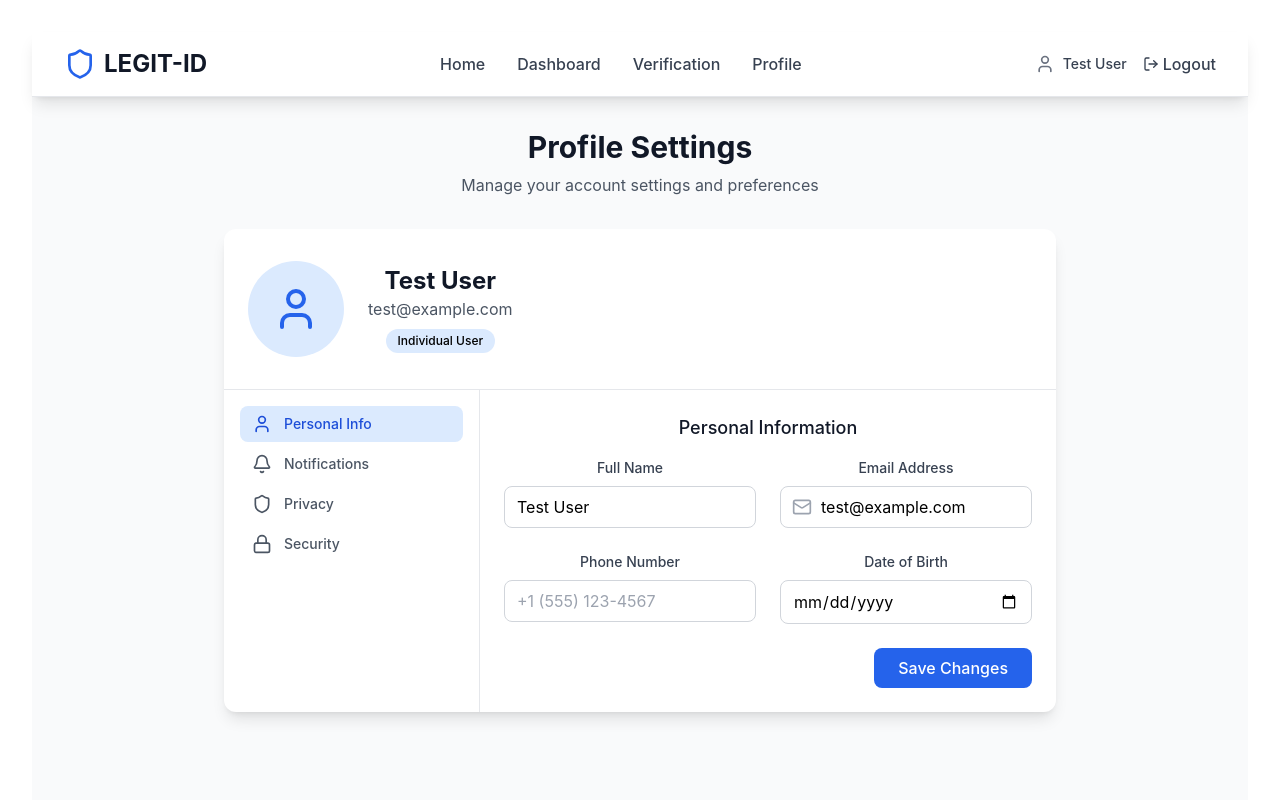
Scenario: ProfilePage › switches to notifications tab
Click the button "Notifications".
click(352, 464)  # box [240,446,463,482]
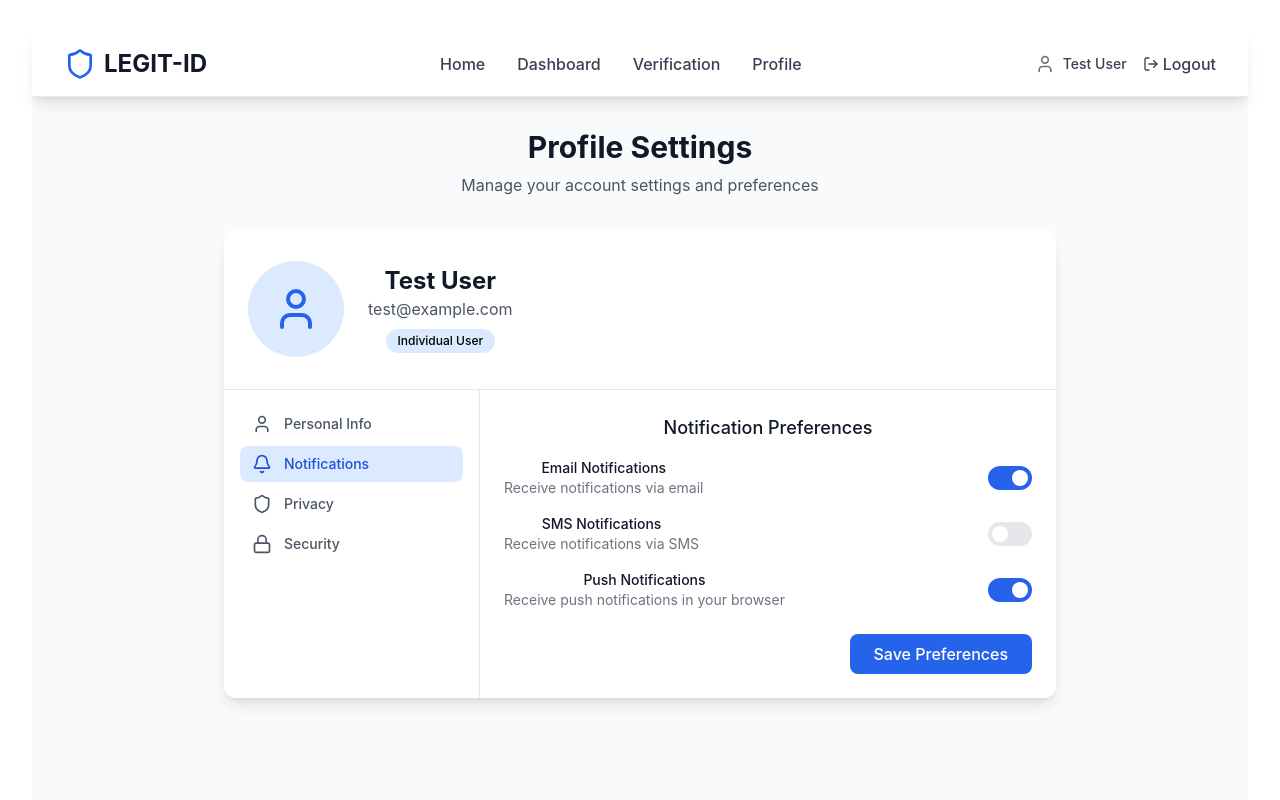
Expected: the heading "Notification Preferences" is shown, [664,417,872,438]
Expected: the text "Email Notifications" is shown, [541,459,666,476]
Expected: the text "SMS Notifications" is shown, [542,515,661,532]
